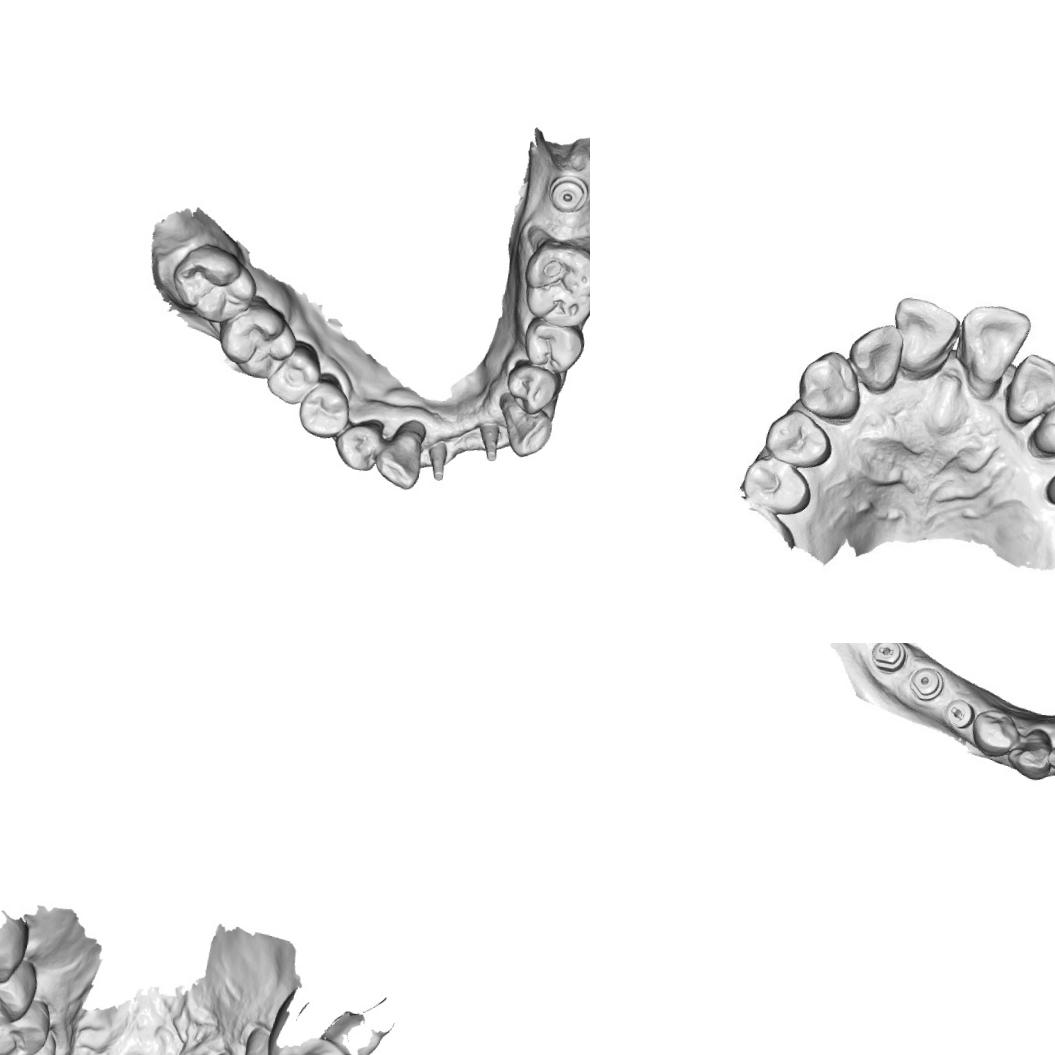abutment: (472, 418, 505, 466), (423, 438, 452, 482)
canine: (795, 348, 868, 424), (491, 390, 558, 461), (371, 414, 430, 492), (1004, 723, 1055, 782), (1029, 387, 1055, 465), (0, 1026, 58, 1055)
implant: (544, 171, 590, 216), (907, 663, 946, 703)
implant_minus: (942, 696, 978, 732), (868, 643, 909, 674)
incisor: (952, 300, 1036, 390), (884, 294, 962, 384), (842, 316, 909, 398), (1001, 350, 1055, 425), (1044, 727, 1055, 778)
molar: (212, 290, 304, 384), (167, 240, 262, 328), (517, 235, 590, 333), (262, 335, 325, 408)
premolar: (758, 403, 834, 471), (740, 452, 816, 519), (519, 315, 590, 376), (295, 376, 354, 442), (502, 360, 564, 418), (330, 411, 388, 473), (0, 992, 53, 1055), (0, 953, 40, 1033), (968, 704, 1022, 760), (236, 1024, 310, 1055)
